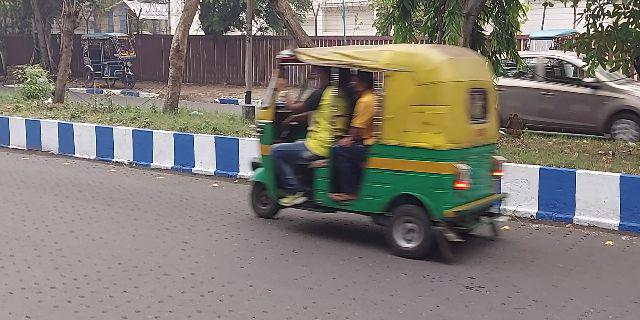Autorickshaw: (248, 43, 507, 252)
